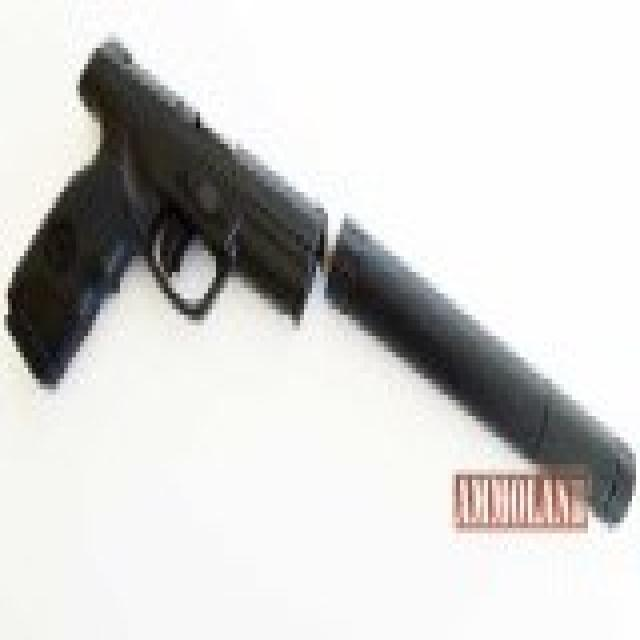Gun: (14, 17, 639, 517)
